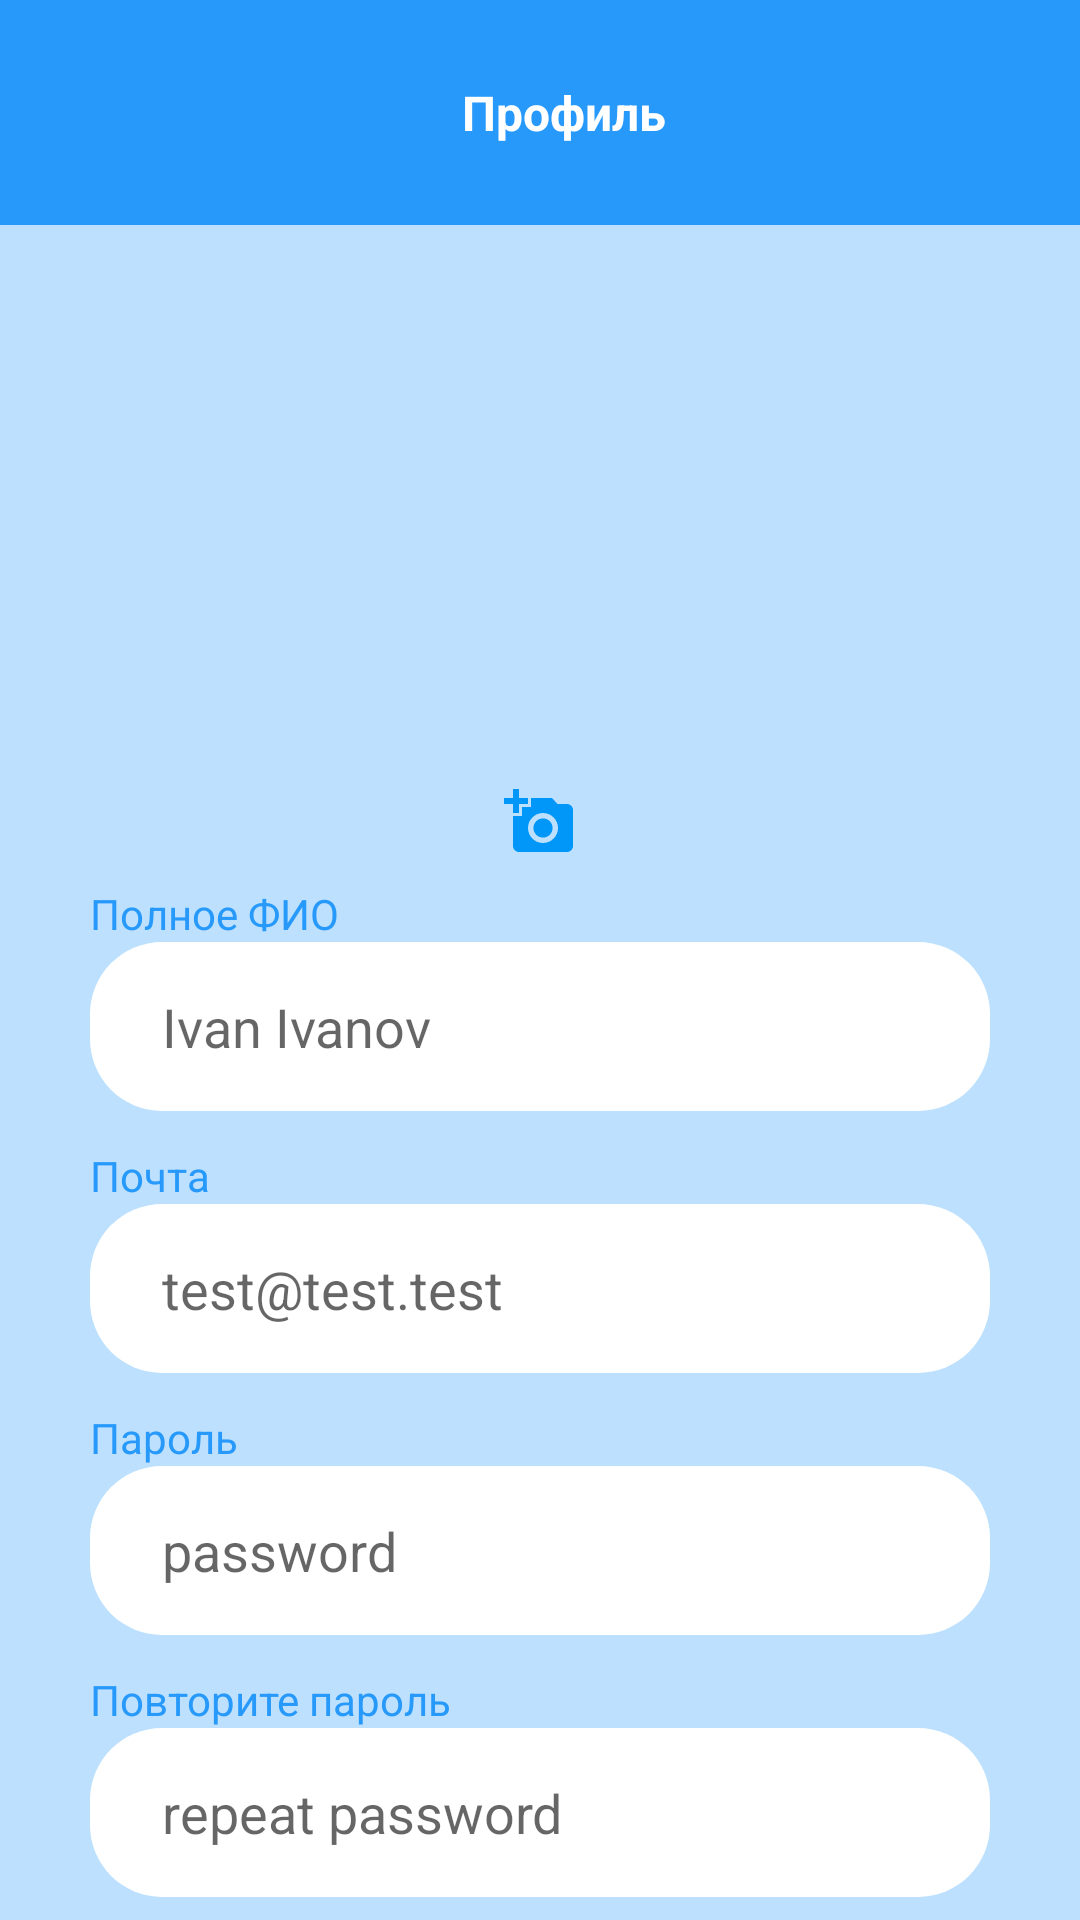

Locate icon controls on the screen. Image size 1080*1920, boxes as {"x1": x1, "y1": y1, "x2": x2, "y2": y2}.
add photo: {"x1": 504, "y1": 789, "x2": 573, "y2": 852}
